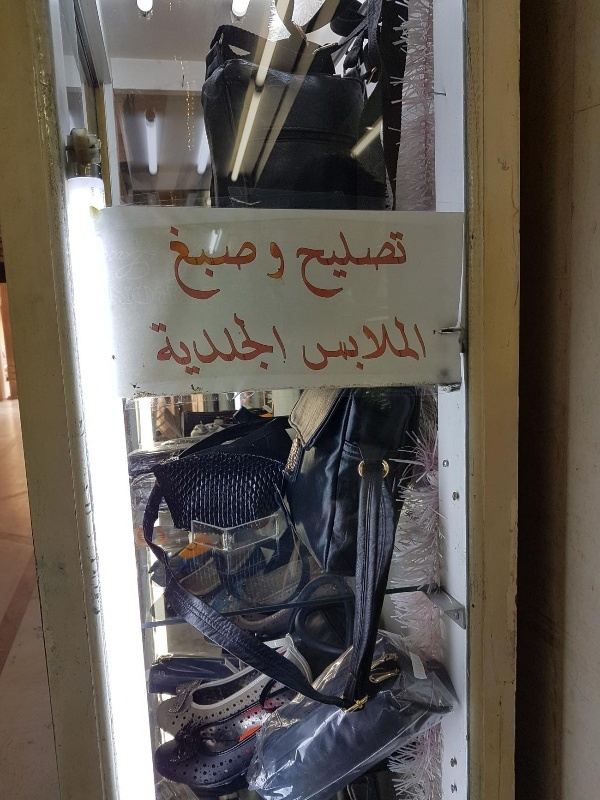text: (177, 224, 192, 301), (193, 224, 208, 301), (209, 224, 224, 301), (225, 224, 240, 301), (241, 224, 256, 301), (161, 310, 176, 386), (177, 310, 192, 386), (193, 310, 208, 386), (209, 310, 224, 386), (225, 310, 240, 386), (241, 310, 256, 386), (257, 310, 272, 386), (273, 310, 288, 386), (305, 231, 320, 298), (321, 231, 336, 298), (337, 231, 352, 298), (353, 231, 368, 298), (369, 231, 384, 298), (385, 231, 400, 298), (148, 310, 160, 386), (305, 316, 320, 372), (321, 316, 336, 372), (337, 316, 352, 372), (353, 316, 368, 372), (369, 316, 384, 372), (385, 316, 400, 372), (401, 316, 416, 372), (273, 239, 288, 283), (417, 316, 427, 372), (296, 231, 304, 298), (401, 231, 408, 298), (289, 310, 295, 386), (171, 224, 176, 301), (257, 224, 259, 301), (289, 239, 292, 283), (302, 316, 304, 372), (271, 239, 272, 283)
